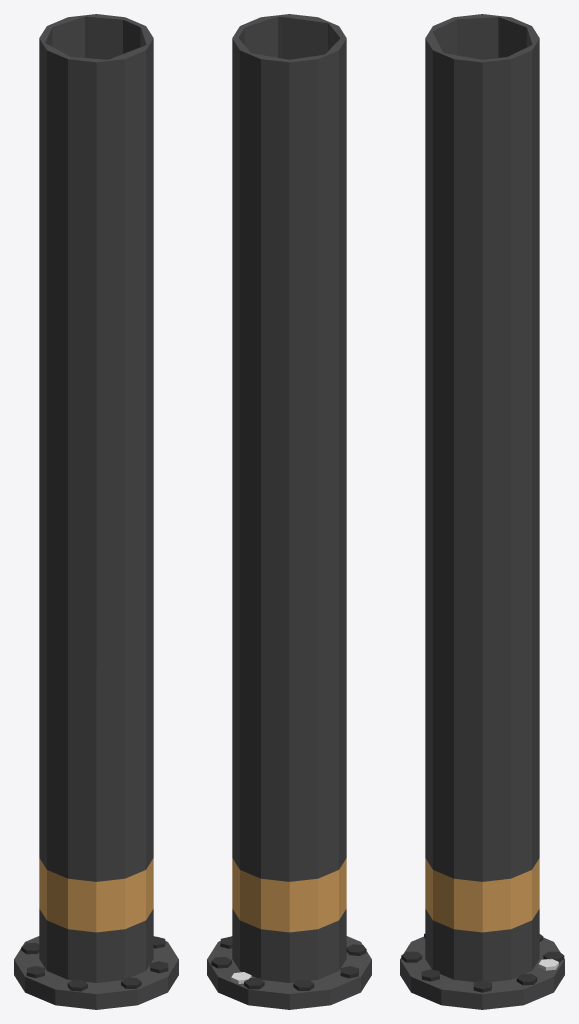
Rendered from Pipe.fbx.
3 views of the same model, side by side, from view 1: azimuth 30°, elevation 25°; view 2: azimuth 150°, elevation 25°; view 3: azimuth 270°, elevation 25° (orthographic).
Parts seen in each view (by area): view 1: Cylinder; view 2: Cylinder; view 3: Cylinder.
Boxes of the visible parts, <box> form: Cylinder: <box>14,14,178,1009</box>; Cylinder: <box>207,14,371,1009</box>; Cylinder: <box>400,14,564,1009</box>.
Size of the model in its own units: 200 by 1254 by 200.
